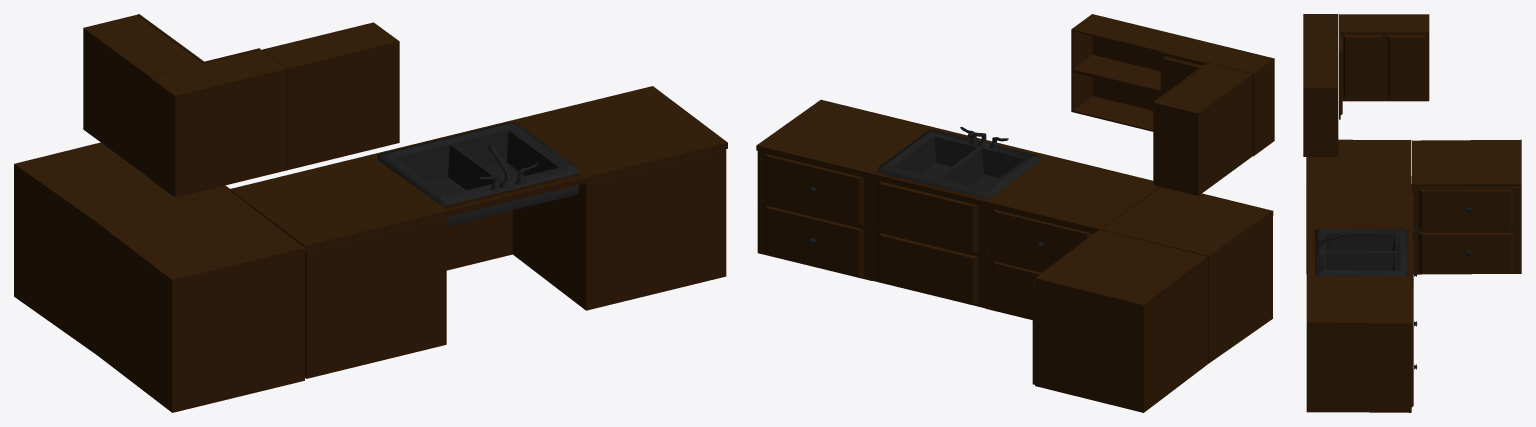
File: RE_RKitchenCounter.FBX
3 views of the same model, side by side, from view 1: azimuth 30°, elevation 25°; view 2: azimuth 150°, elevation 25°; view 3: azimuth 270°, elevation 25° (orthographic). The views are drawn at different scales.
Visible parts, largest first — view 1: RE_RKitchenCounter; view 2: RE_RKitchenCounter; view 3: RE_RKitchenCounter.
Boxes of the visible parts, left/top/right/bottom form: RE_RKitchenCounter: left=14, top=14, right=727, bottom=412; RE_RKitchenCounter: left=756, top=14, right=1274, bottom=412; RE_RKitchenCounter: left=1303, top=14, right=1521, bottom=412.
Bounding box in the file's own units: 196 × 107 × 98.16.
